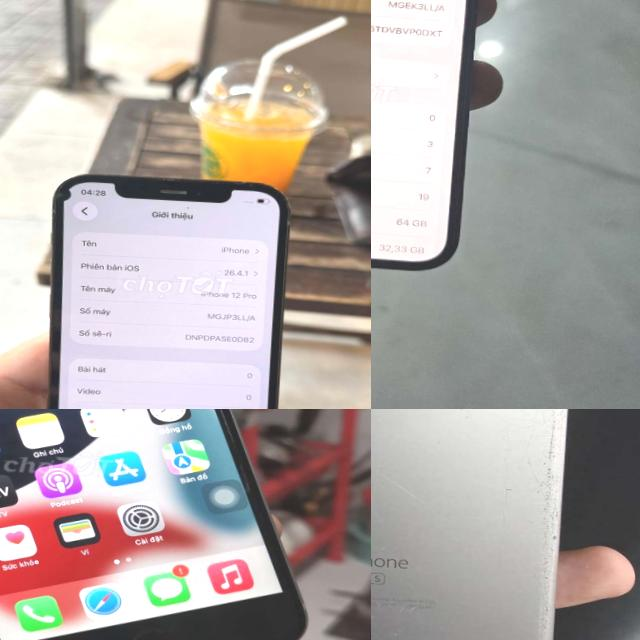gen_12_13: (34, 166, 295, 409), (371, 0, 490, 275)
gen_6: (0, 409, 305, 640), (371, 409, 567, 640)
scratch: (371, 533, 473, 640), (535, 409, 578, 640), (371, 465, 441, 510), (490, 456, 540, 514)
screen_defect: (49, 174, 102, 224)
